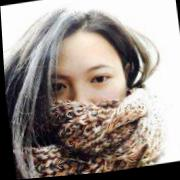WRONG: (39, 59, 131, 149)
